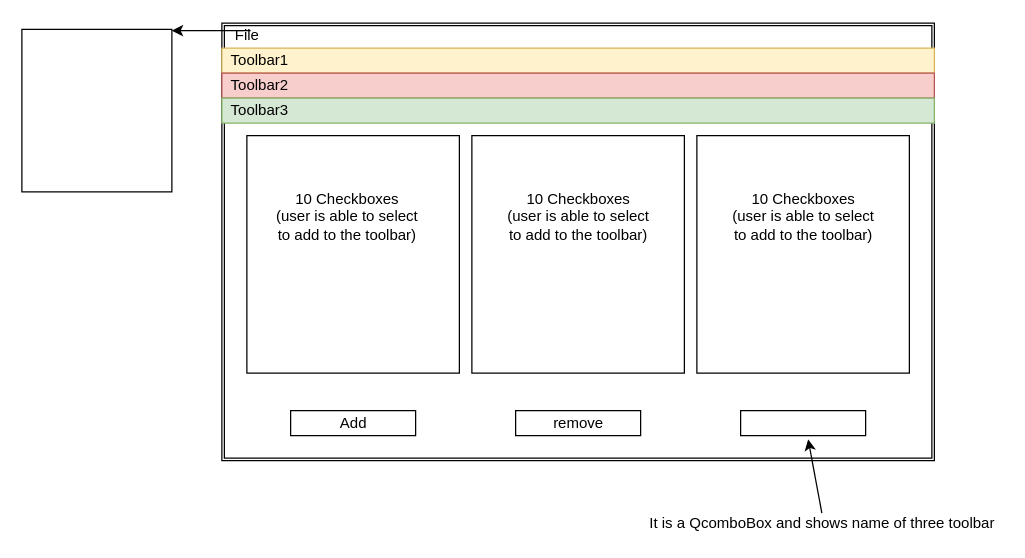
Image size: 1025x558. Some labels were removed from this diagram. Here are the shapes that lost their labels. From the top down, the centre of each, then its label:
At point 96,110: "Options for help, save. load and exit".
At point 802,422: "Toolbar Selector".
